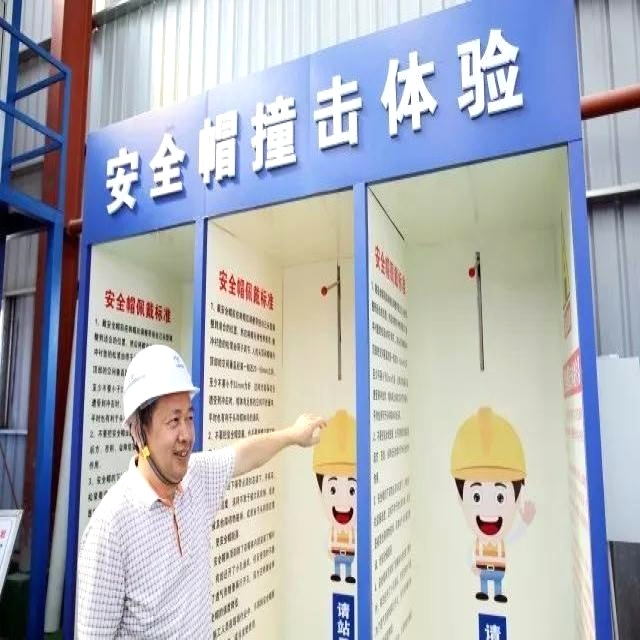Con_Casco: (126, 343, 195, 471)
